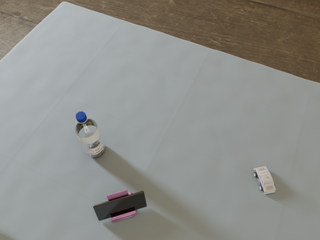bottle: (74, 112, 105, 157)
phone: (93, 191, 147, 221)
toy_car: (254, 167, 276, 194)
